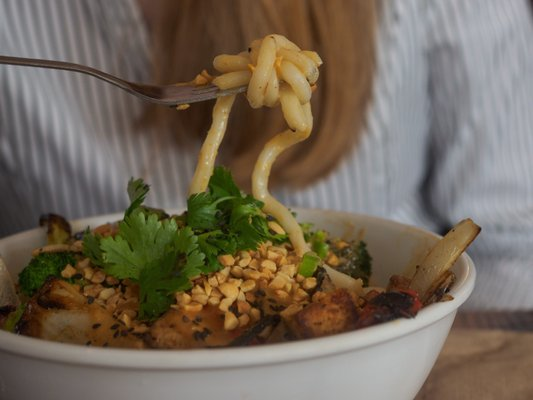sushi: (9, 195, 477, 399)
